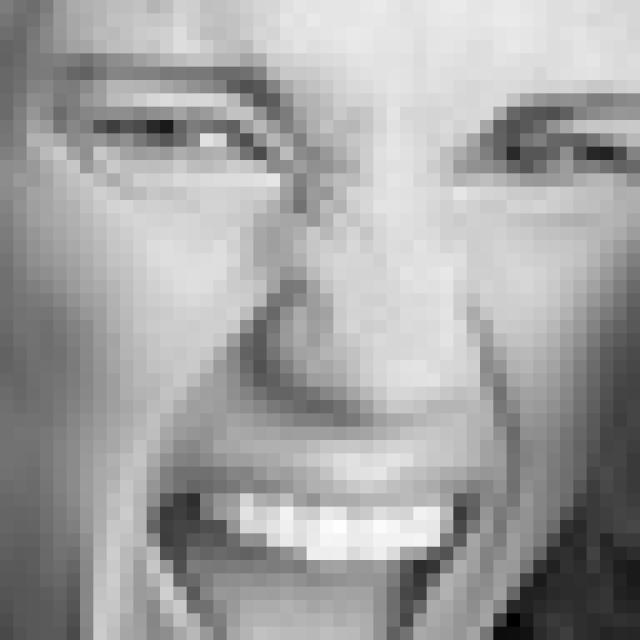angry: (26, 45, 640, 640)
